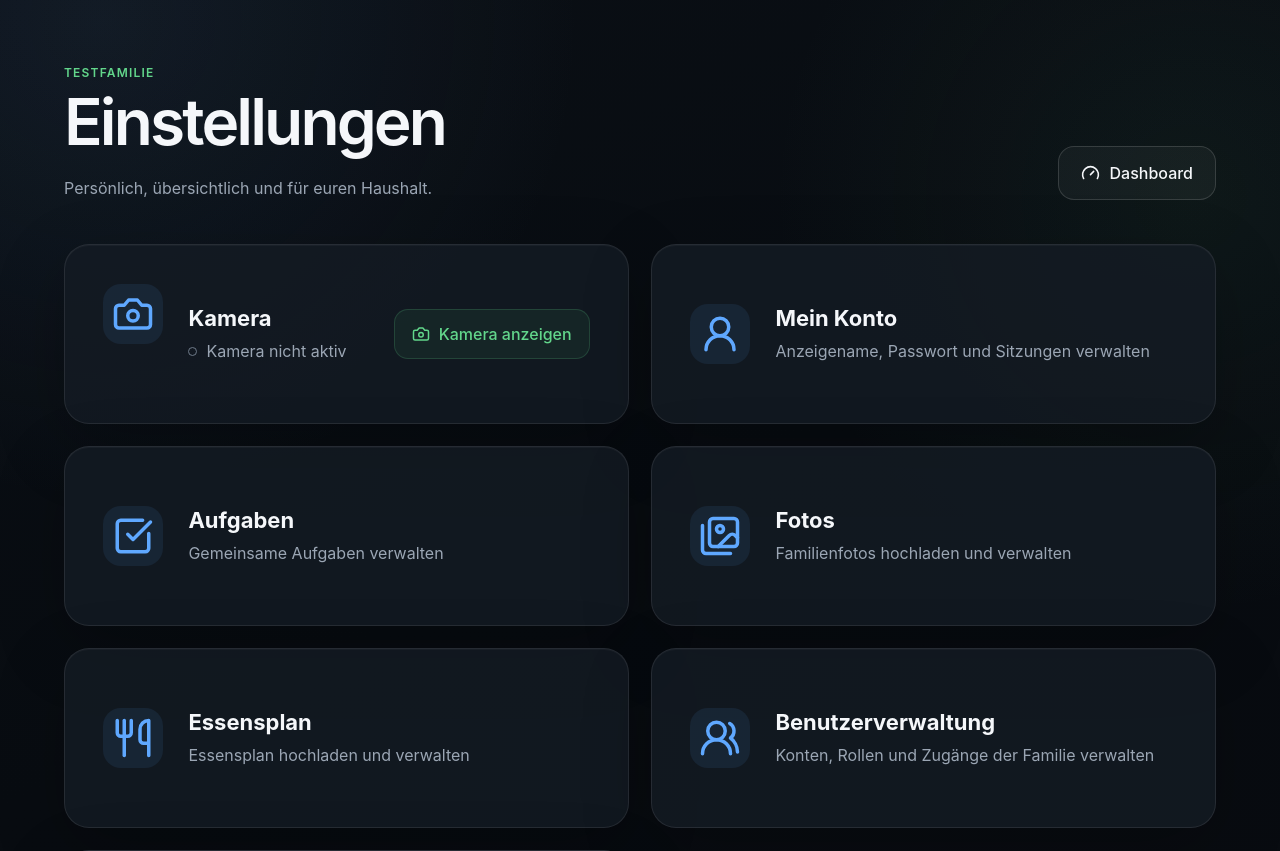
settings entry is available for admin
The image size is (1280, 851).
What coordinates should you click on to do the following:
click the link "Essensplan Essensplan hochladen und verwalten"
I would click on:
 (133, 738)
Its box is [64, 648, 629, 828].
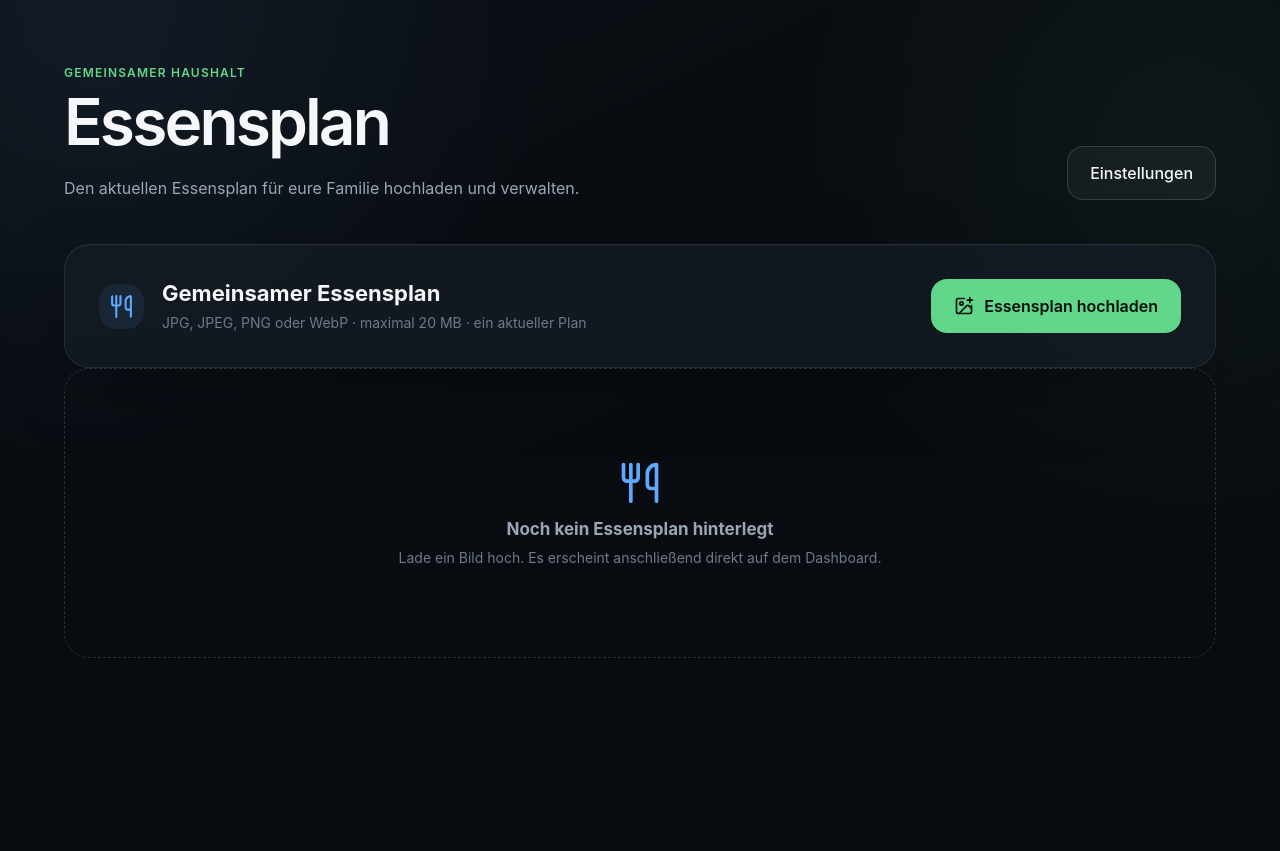
Expected: the button "Essensplan hochladen" is enabled, [931, 279, 1181, 333]
Expected: the heading "Essensplan" is shown, [64, 83, 389, 160]
